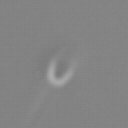normal: (23, 87, 63, 128)
